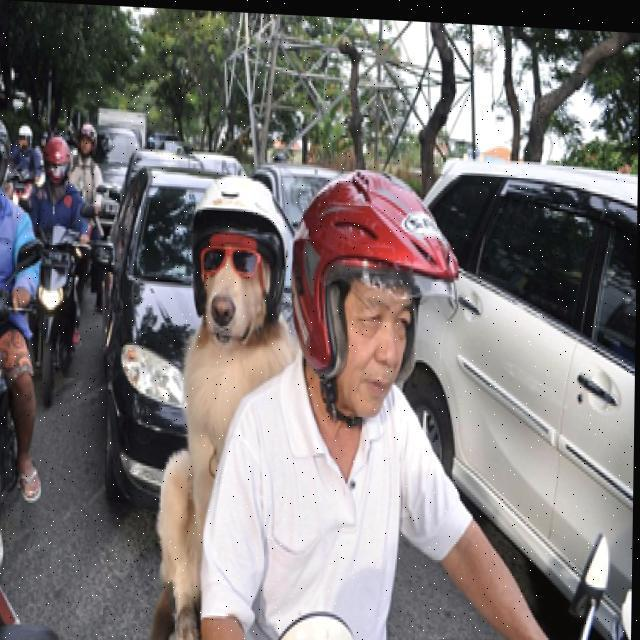Helmet: (293, 154, 459, 412), (188, 164, 288, 381), (41, 137, 69, 186), (75, 120, 102, 157), (19, 123, 35, 151)
